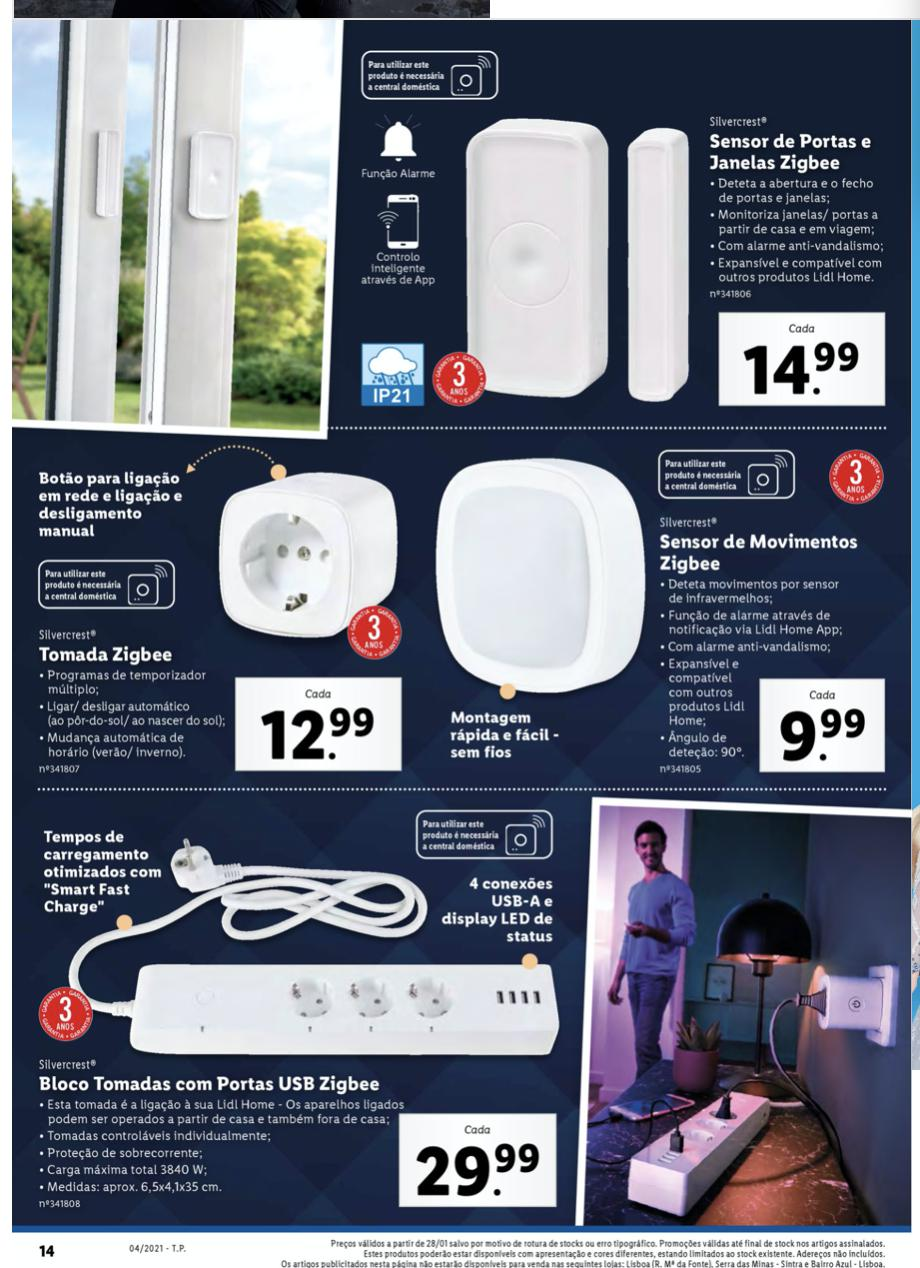name: (30, 1069, 388, 1100), (655, 528, 867, 577), (702, 131, 872, 170), (35, 641, 180, 667)
price: (720, 314, 889, 411), (395, 1111, 553, 1213), (233, 683, 397, 767), (755, 681, 885, 774)
product: (22, 805, 575, 1219), (424, 447, 899, 778), (463, 110, 892, 433), (28, 442, 411, 786)
